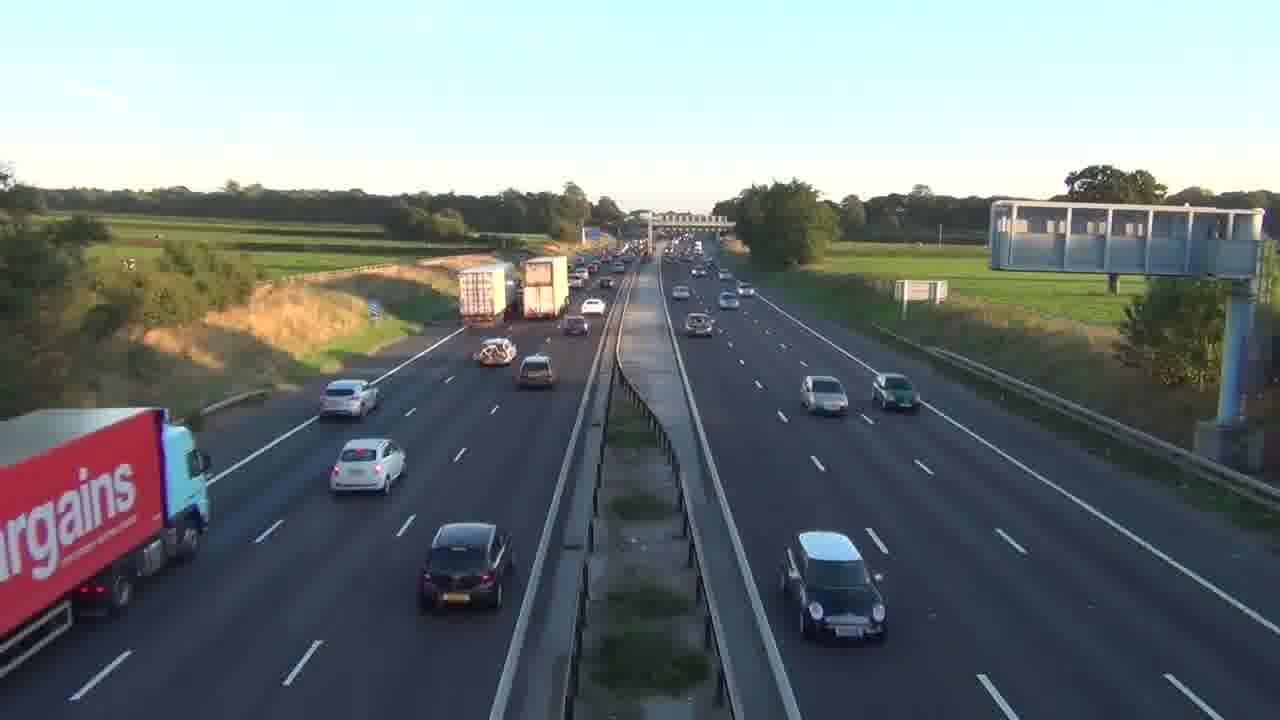car: (416, 521, 516, 612), (327, 436, 407, 497), (319, 378, 382, 419), (799, 375, 850, 416), (871, 372, 918, 413), (513, 352, 560, 389), (579, 298, 606, 315)
truck: (1, 406, 212, 642), (780, 529, 888, 645)
